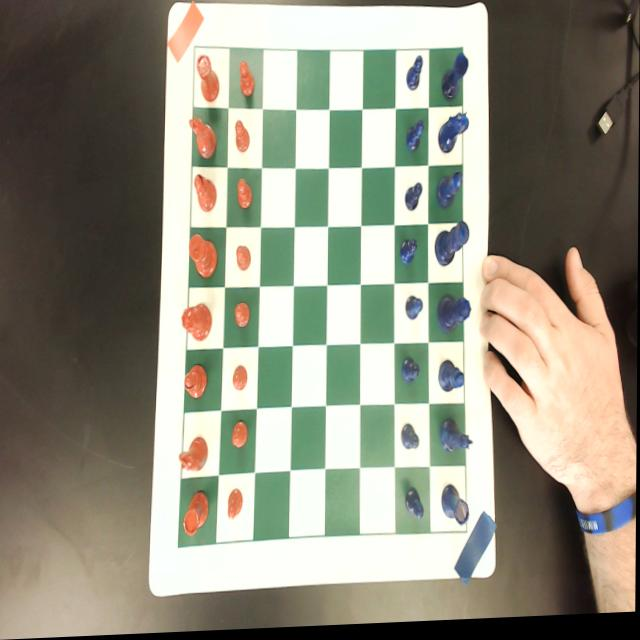B: (437, 175, 463, 214), (439, 363, 466, 398)
K: (435, 226, 470, 272)
N: (440, 420, 473, 462), (439, 114, 471, 157)
P: (405, 489, 426, 526), (406, 122, 426, 157), (405, 59, 424, 95), (401, 360, 421, 390), (401, 426, 421, 454), (405, 185, 423, 216), (405, 298, 424, 325), (400, 242, 419, 268)
Q: (437, 297, 472, 337)
R: (441, 55, 470, 104), (442, 486, 472, 531)
b: (195, 175, 217, 217), (185, 365, 208, 403)
k: (189, 234, 219, 281)
n: (188, 113, 218, 162), (180, 436, 210, 477)
p: (239, 61, 256, 100), (231, 421, 249, 452), (235, 121, 251, 155), (237, 179, 253, 213), (228, 490, 244, 522), (235, 303, 251, 331), (233, 366, 249, 394), (236, 247, 252, 273)
q: (181, 305, 212, 344)
r: (183, 491, 211, 539), (196, 54, 221, 105)
